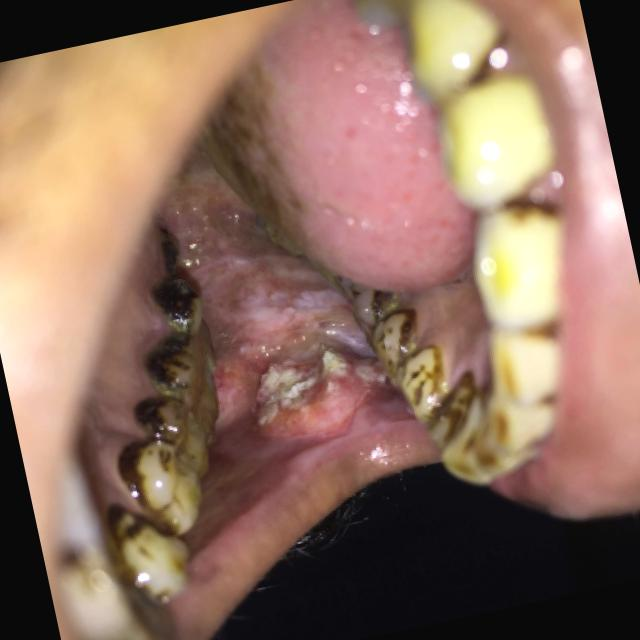Cancer: (135, 21, 417, 555)
